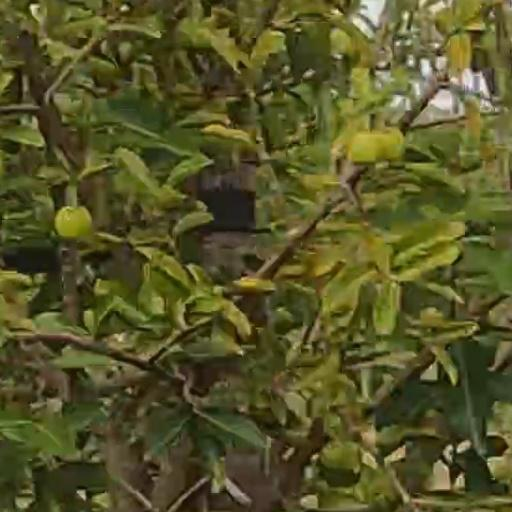acerola: (57, 206, 91, 238), (350, 130, 378, 160), (376, 127, 403, 158)
